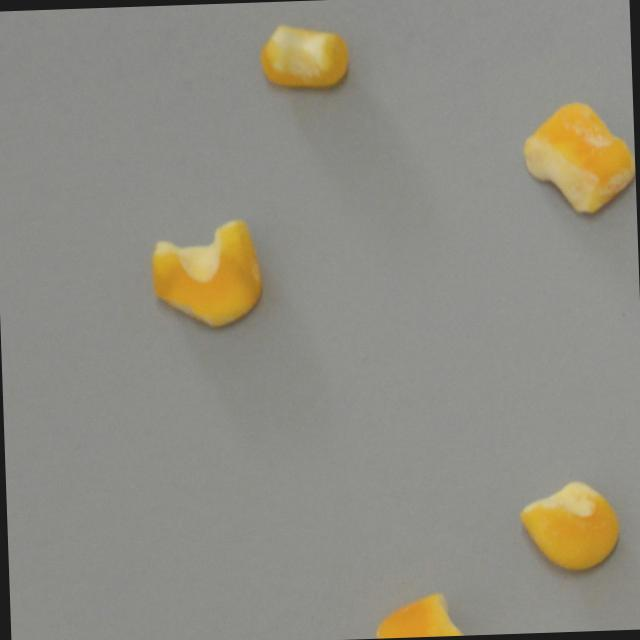dañado: (141, 206, 268, 336), (517, 473, 625, 578), (371, 584, 490, 638)
no_desgerminado: (253, 19, 359, 96)
pelicula: (517, 96, 637, 222)
